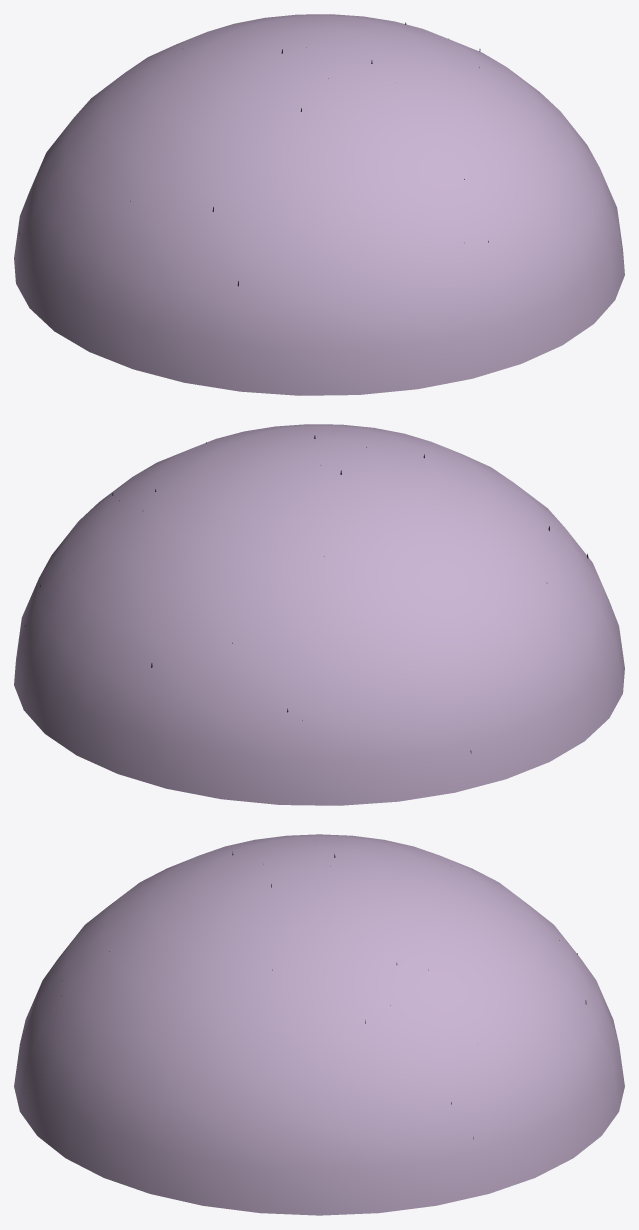
File: particule_000005.obj
The picture shows the model from 3 angles, top to bottom: view 1: azimuth 30°, elevation 25°; view 2: azimuth 150°, elevation 25°; view 3: azimuth 270°, elevation 25°; orthographic projection.
Visible parts, largest first — view 1: Sphère; view 2: Sphère; view 3: Sphère.
Boxes of the visible parts, box(x1,y1,x2,y2) form: Sphère: box(14, 14, 624, 395); Sphère: box(14, 424, 624, 805); Sphère: box(14, 834, 624, 1215).
Size of the model in its own units: 63430 by 25206 by 63430.
